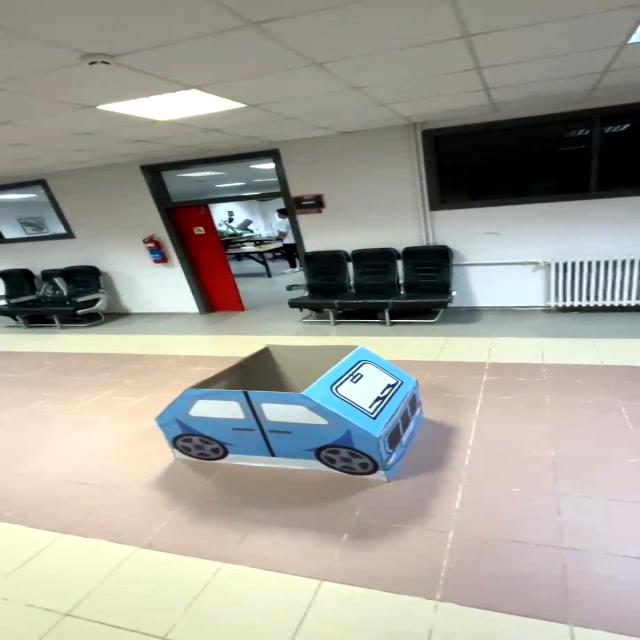blue_car: (125, 337, 490, 499)
